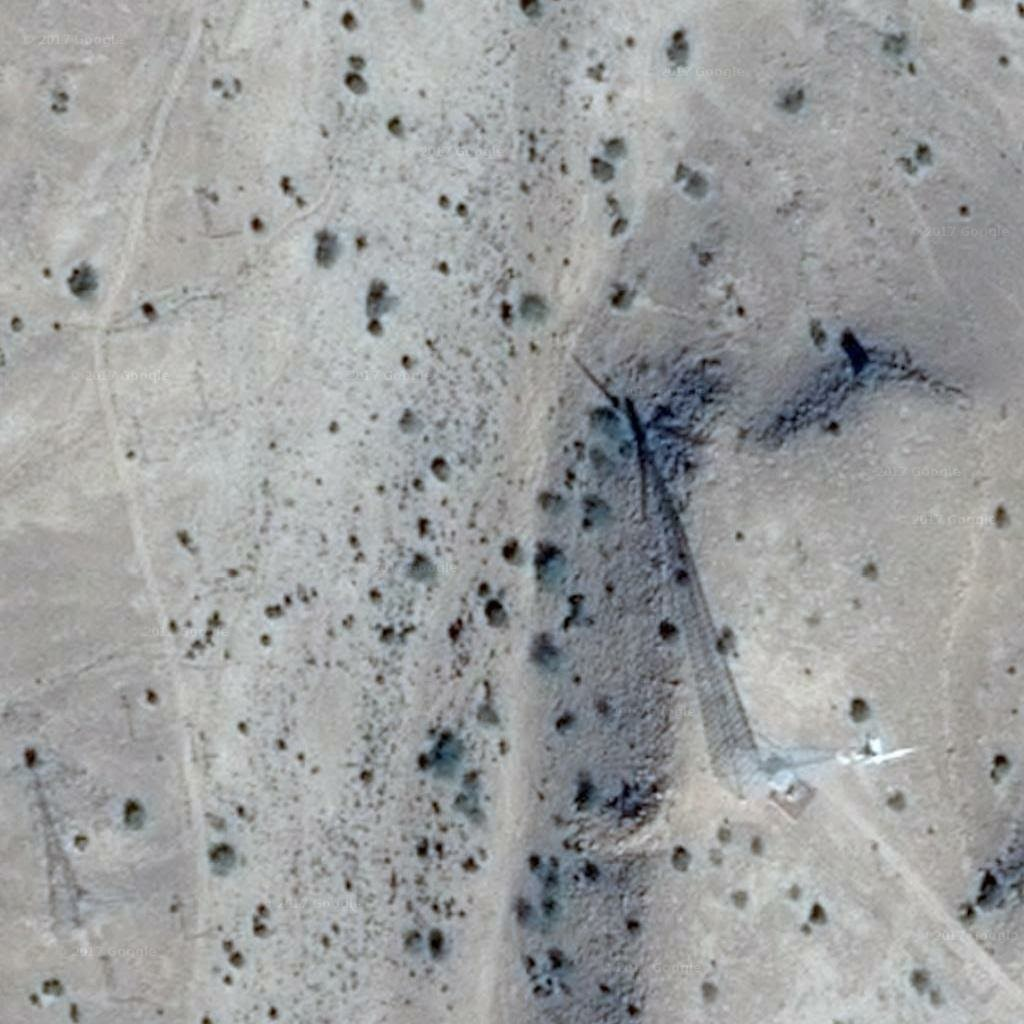Windmill: (562, 349, 727, 605)
